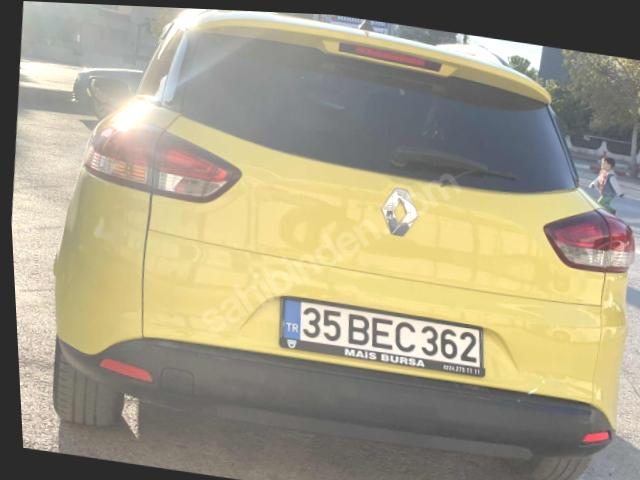plaka: (281, 299, 483, 376)
